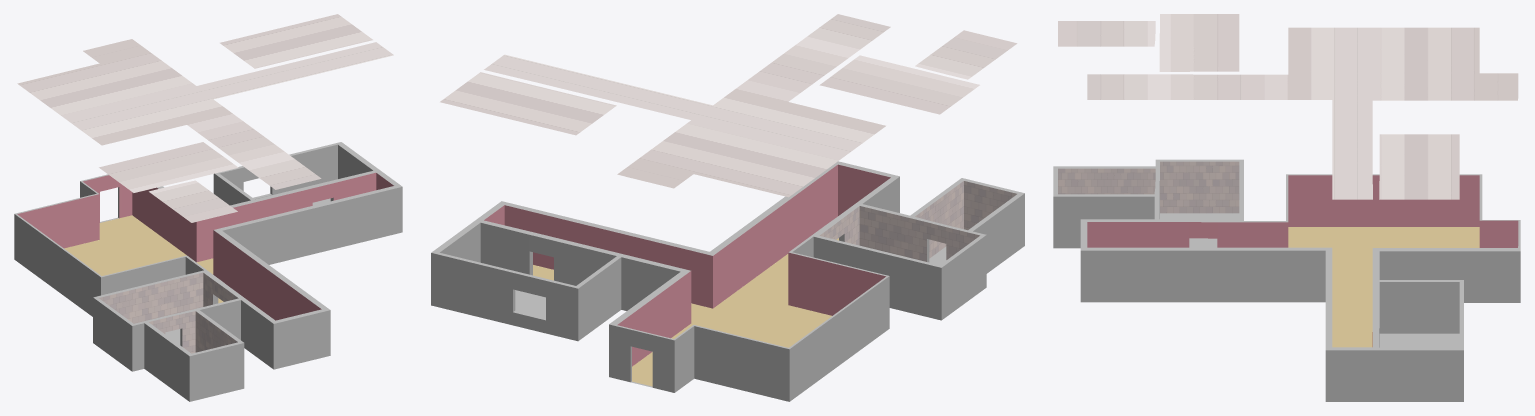
File: RoomsUpdated.fbx
3 views of the same model, side by side, from view 1: azimuth 30°, elevation 25°; view 2: azimuth 150°, elevation 25°; view 3: azimuth 270°, elevation 25° (orthographic). The views are drawn at different scales.
Visible parts, largest first — view 1: Walls, Roof, Floor; view 2: Walls, Roof, Floor; view 3: Walls, Roof, Floor.
Part boxes in pixels (box(x1,y1,x2,y2)): Walls: box(14, 142, 402, 401); Roof: box(17, 14, 393, 222); Floor: box(64, 198, 330, 344); Walls: box(431, 161, 1024, 401); Roof: box(440, 14, 1017, 197); Floor: box(515, 238, 946, 386); Walls: box(1053, 159, 1520, 401); Roof: box(1058, 14, 1518, 199); Floor: box(1160, 213, 1479, 347).
Size of the model in its own units: 5499 by 2681 by 5700.
